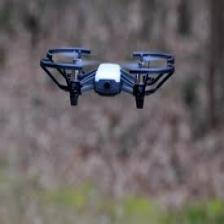drone: (40, 48, 176, 107)
